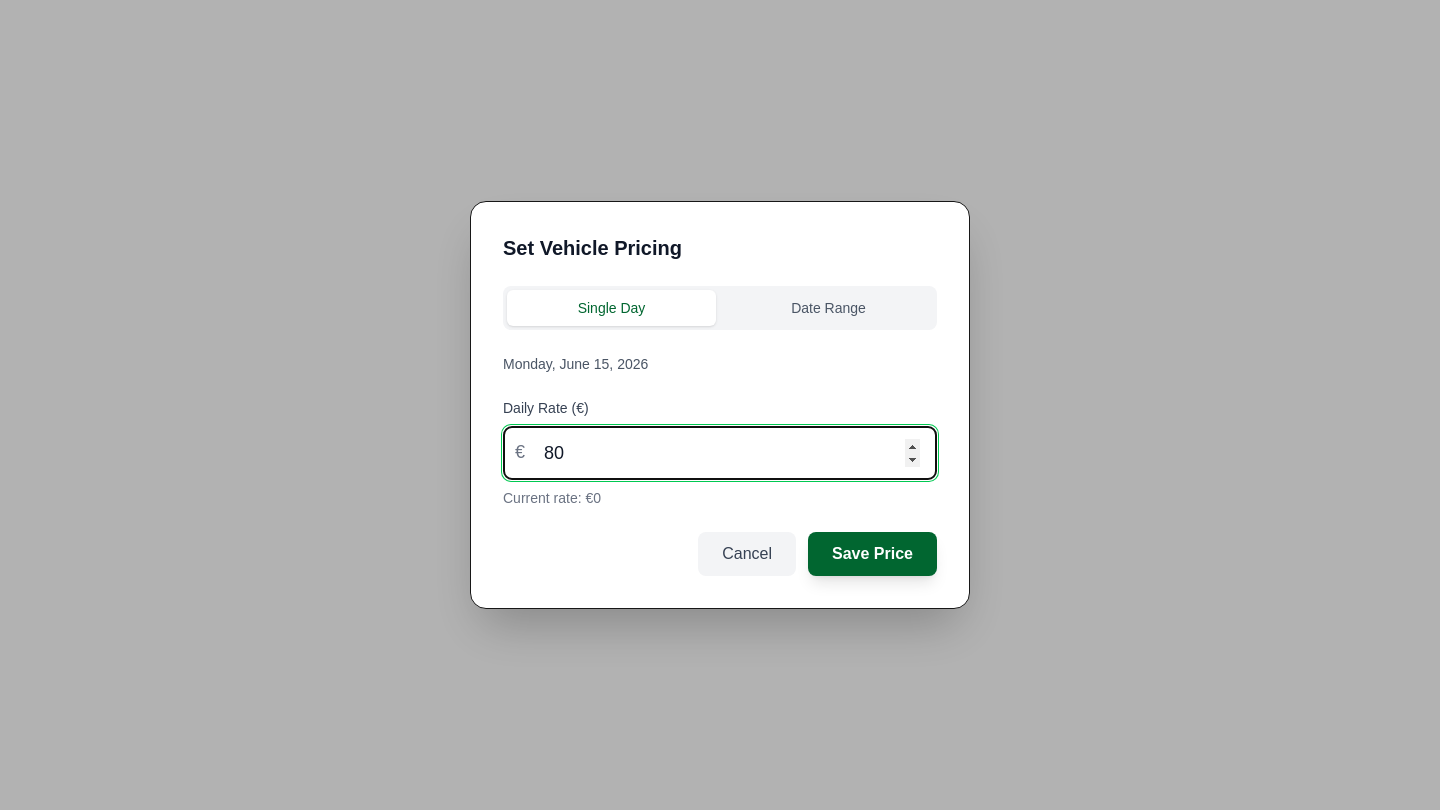
Test: PriceEditModal Component › Mode Toggle › should switch to Date Range mode when clicked
Click the button "Date Range": (828, 308) [724, 290, 933, 326]
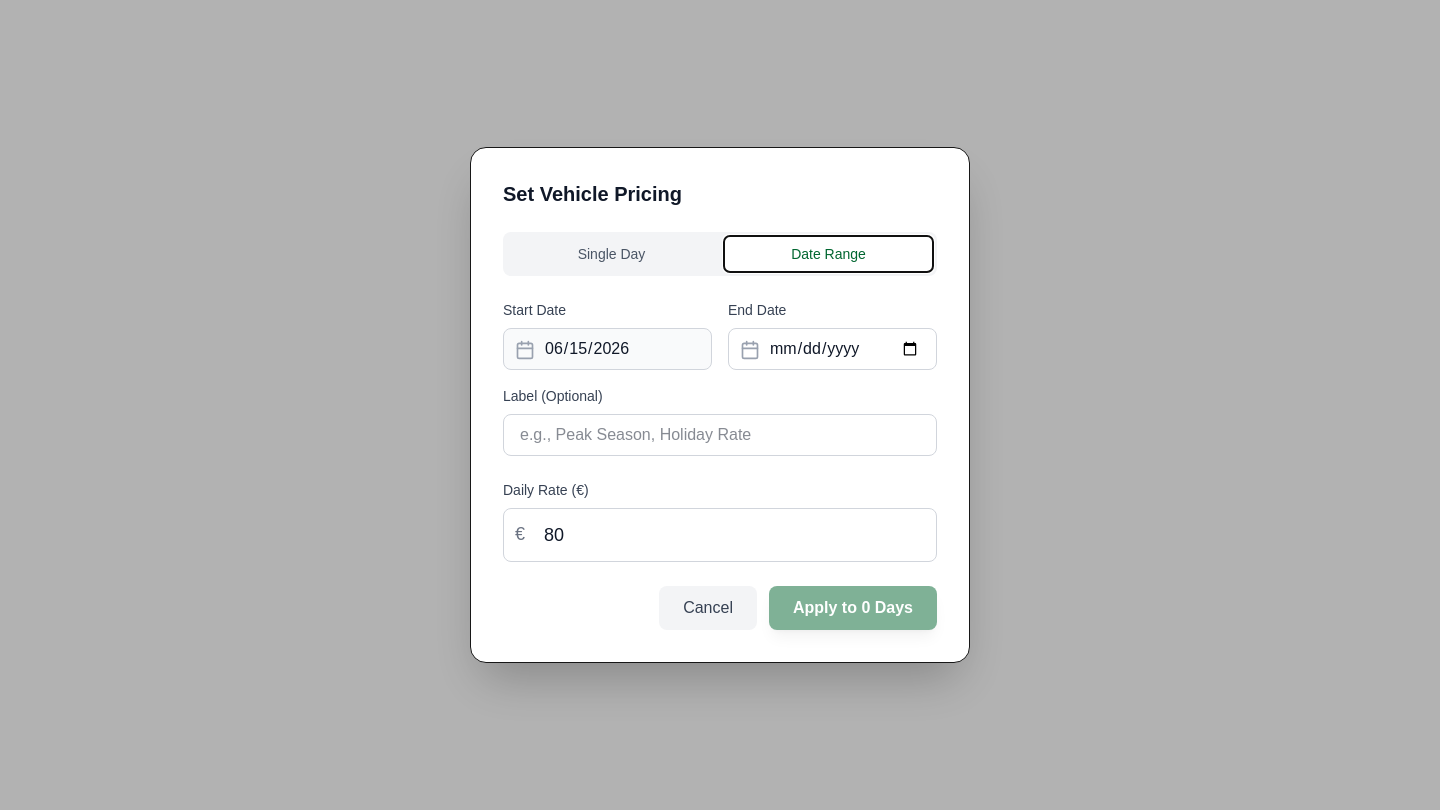
Check: the text "Start Date" is shown, box [503, 302, 566, 318]
Check: the text "End Date" is shown, box [728, 302, 786, 318]
